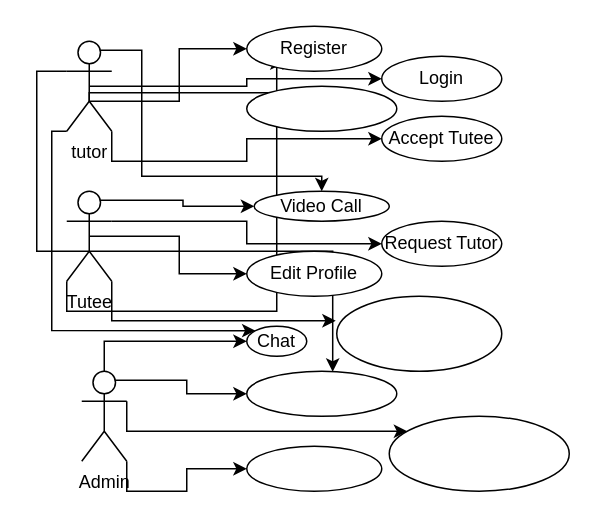
The diagram is 596 pixels wide and 530 high, and some of its shapes have lost their labels. The shapes that lost their labels are listed below. From the top down, each one's box as (x1, y1, x2, y2) in pixels, then its label:
(245, 85, 397, 131): Enter module
(335, 295, 502, 371): Filter Tutor by age/Gender
(245, 370, 397, 416): Delete Account
(245, 445, 382, 491): Suspend Users
(388, 415, 569, 491): Send notifications for maintanance
